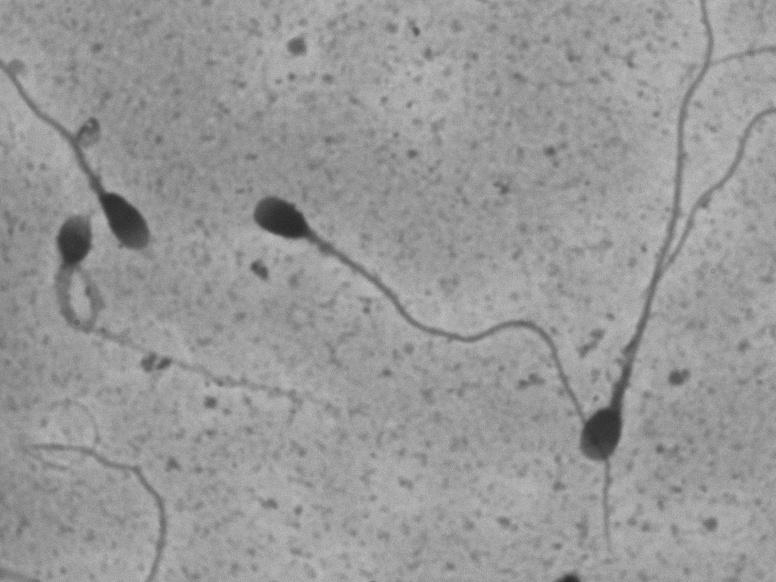Abnormal: (96, 64, 190, 260), (38, 201, 104, 354)
Normal: (241, 177, 640, 564)
